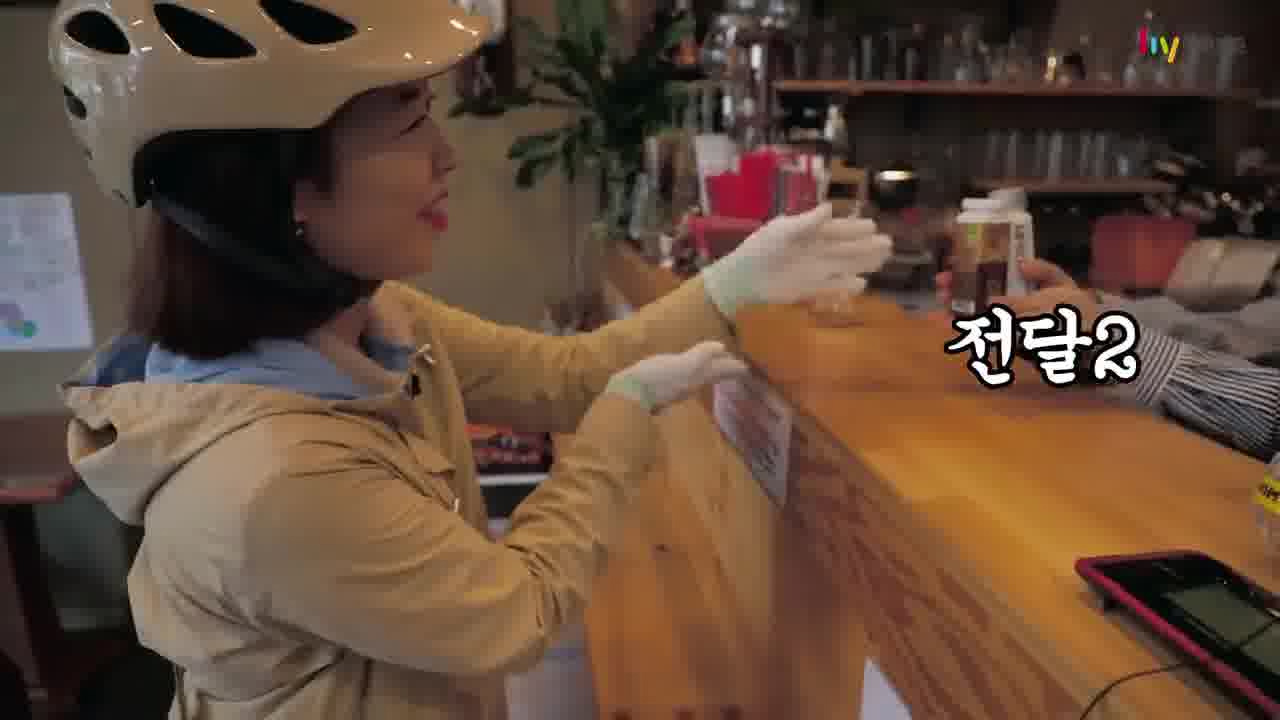Yakurut: (33, 6, 915, 720)
